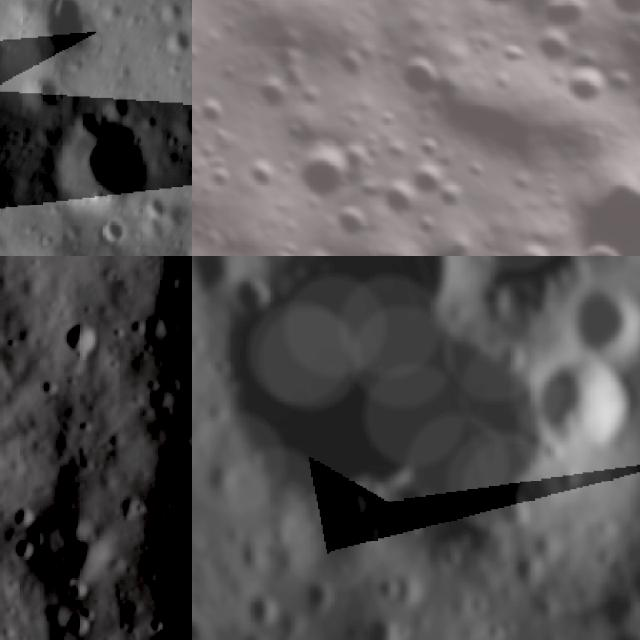crater: (115, 348, 192, 640), (522, 345, 640, 456), (537, 133, 640, 256), (53, 114, 155, 206), (559, 273, 640, 364), (282, 131, 366, 214), (385, 34, 462, 112), (553, 52, 617, 116), (529, 20, 587, 77), (36, 0, 90, 59), (223, 266, 280, 320), (531, 0, 600, 44), (331, 128, 386, 183), (51, 310, 105, 364), (237, 148, 290, 200), (251, 67, 303, 119), (192, 85, 240, 139), (199, 154, 248, 203), (404, 154, 452, 202), (326, 41, 374, 89), (427, 172, 475, 219), (524, 522, 570, 570), (568, 230, 639, 256), (409, 126, 451, 168), (355, 606, 406, 640), (300, 573, 340, 615), (26, 68, 64, 112), (601, 57, 640, 99), (463, 0, 537, 22), (494, 491, 534, 531), (598, 0, 640, 32), (408, 207, 443, 243), (393, 510, 428, 544), (263, 234, 314, 256), (511, 235, 562, 256), (99, 214, 127, 246)
